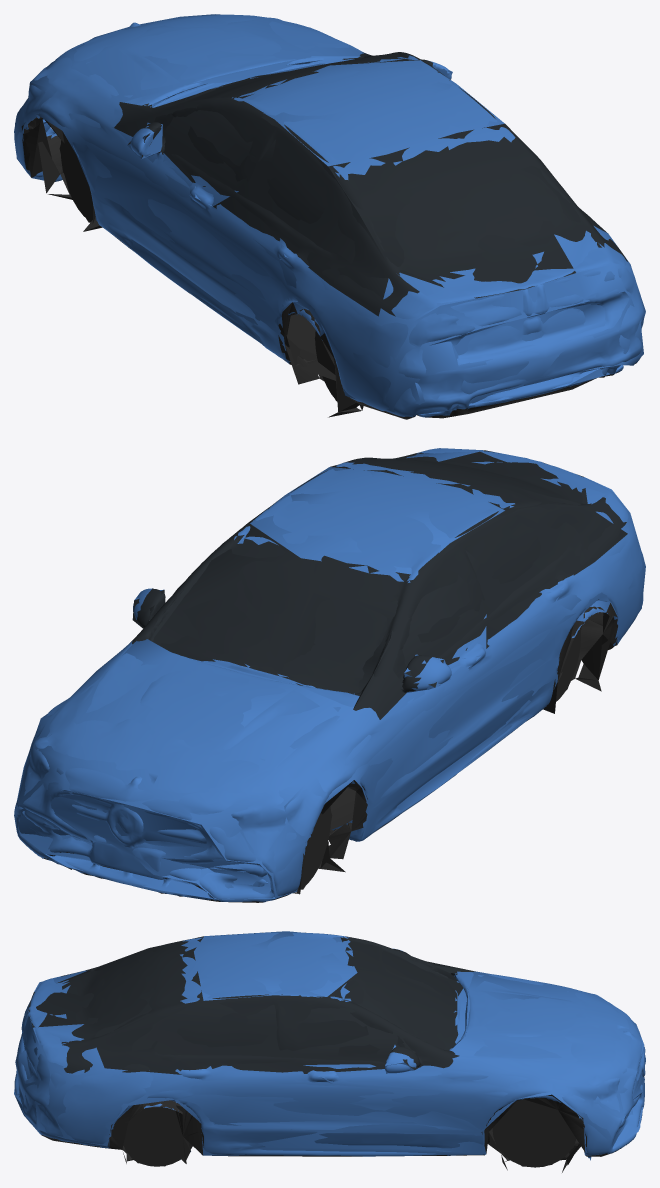
File: mercedes-benz-c-class.glb
3 views of the same model, one above another, from view 1: azimuth 30°, elevation 25°; view 2: azimuth 150°, elevation 25°; view 3: azimuth 270°, elevation 25° (orthographic). The views are drawn at different scales.
Visible parts, largest first — view 1: body, far; view 2: body, far; view 3: body, far.
Part boxes in pixels (bbox=[...]): body: bbox=[14, 14, 644, 419]; far: bbox=[14, 14, 645, 414]; body: bbox=[14, 448, 643, 902]; far: bbox=[14, 448, 645, 899]; body: bbox=[14, 932, 645, 1172]; far: bbox=[14, 931, 644, 1166].
Bounding box in the file's own units: 2.14 × 1.47 × 4.97.
